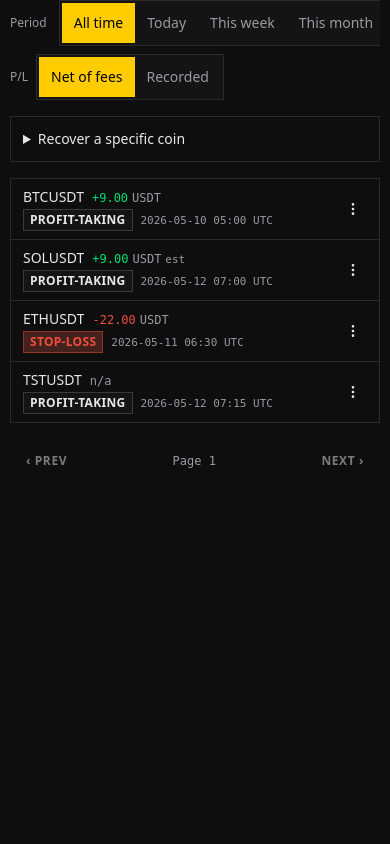
Scenario: <TradeArchivePanel> below the md breakpoint › reports an un-costed row honestly in the detail sheet, with no fabricated zero
Click the button with test id "archive-card-arch-uncosted". click: (83, 404)
box: [23,362,327,422]
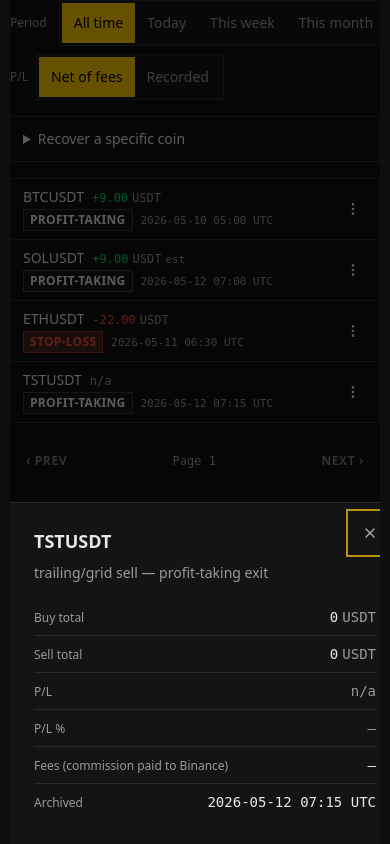
Expected: the element with test id "archive-detail-profit" does not show "0.00", [351,681,376,701]
Expected: the picture reads "n/a", [351,683,376,699]
